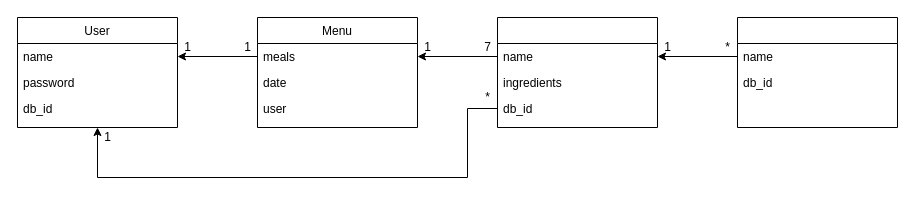
Image size: 915x203. Some labels were removed from this diagram. The shapes that lost their labels are listed below. From the top down, each one's box as (x1, y1, x2, y2) in pixels, then its label:
(496, 16, 658, 128): Meal
(736, 16, 898, 128): Ingredient
